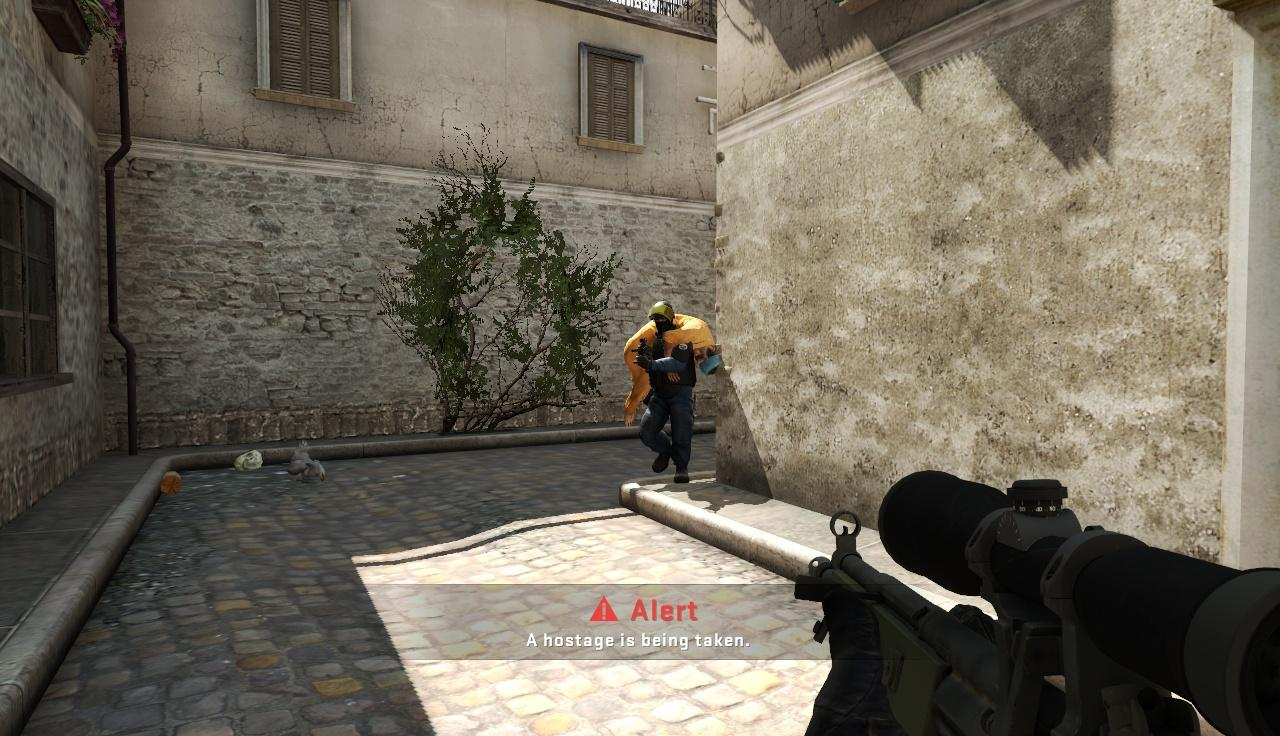ct: (641, 299, 697, 475)
cthead: (649, 300, 675, 331)
sniper: (801, 461, 1279, 736)
